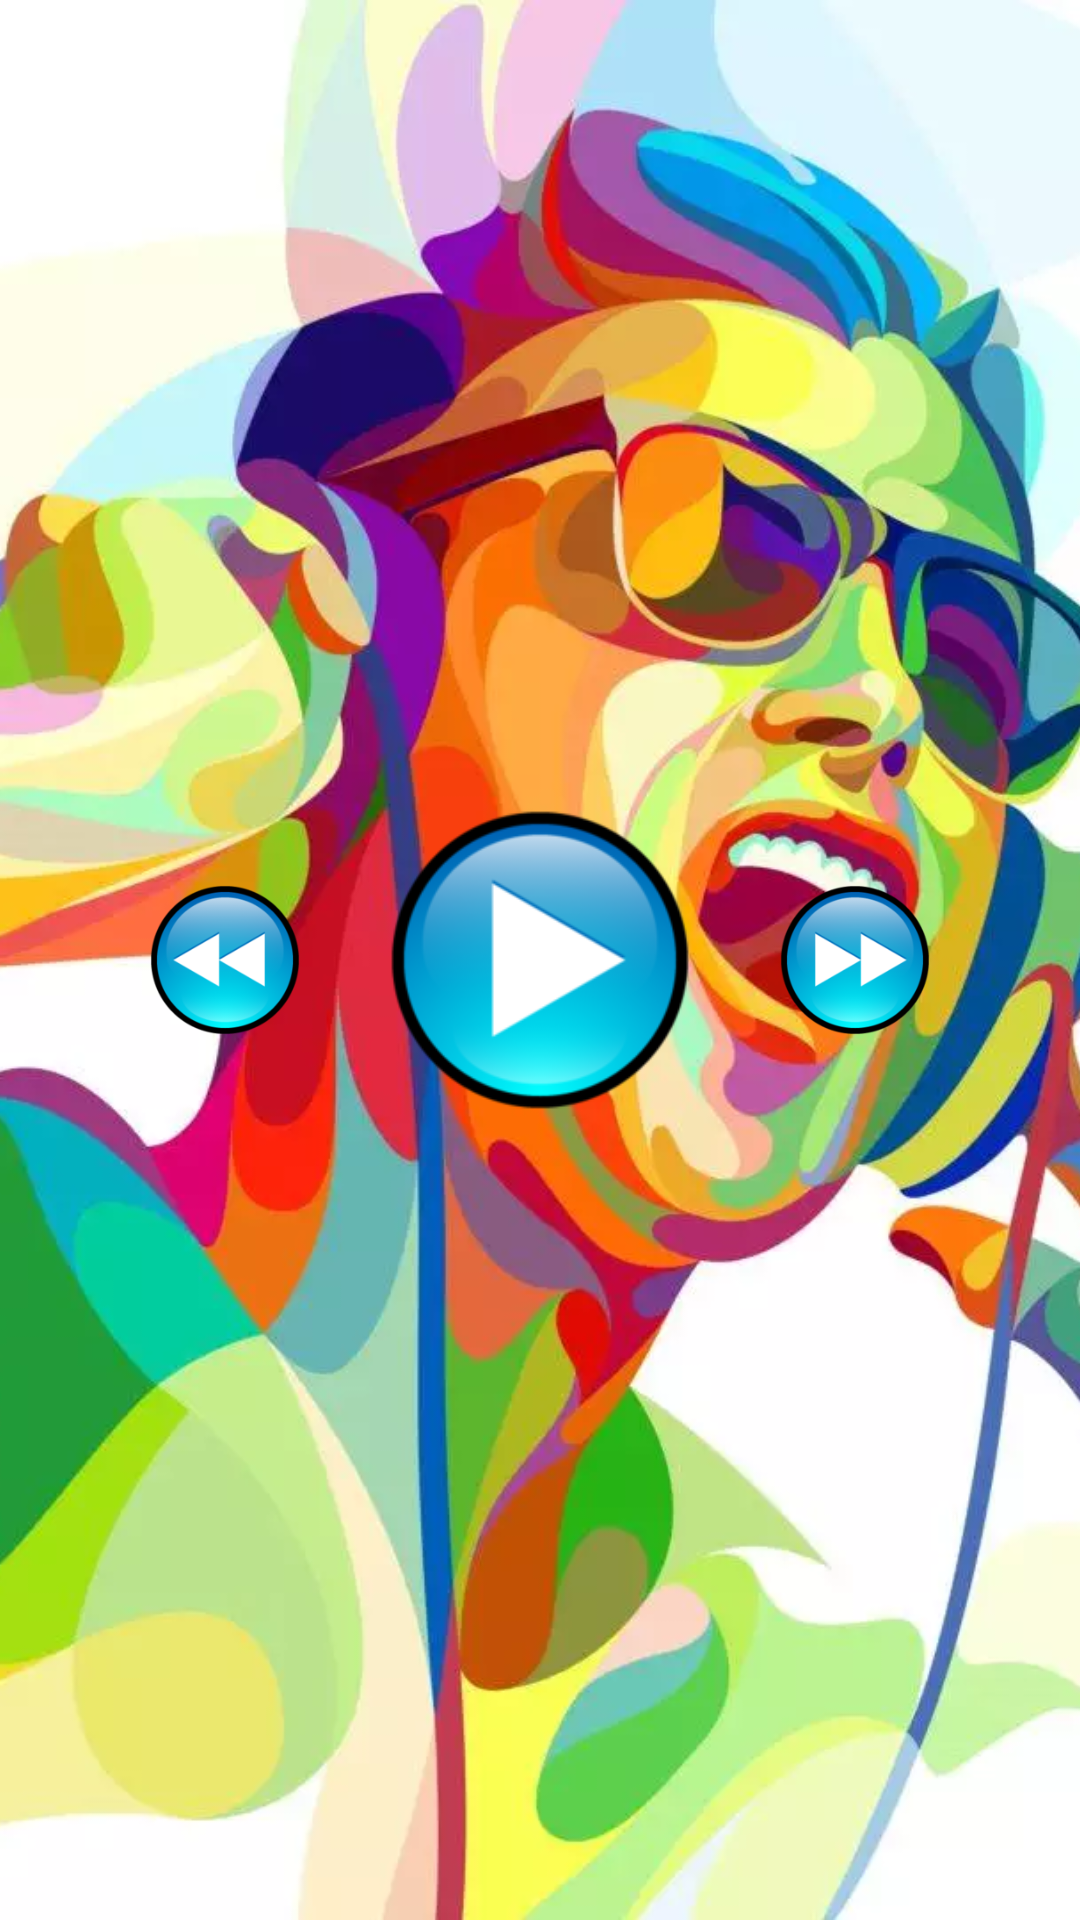

Icons on this 1080 x 1920 Android screen, each with the point to tap as (x,y):
Forward: (855,960)
Play song: (540,960)
Rewind: (225,960)
